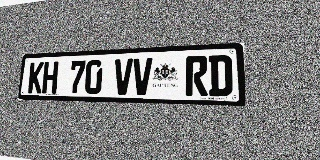0: (84, 60, 103, 94)
7: (68, 60, 86, 94)
D: (209, 55, 232, 96)
H: (42, 61, 59, 94)
K: (28, 62, 44, 94)
R: (186, 56, 208, 96)
V: (113, 58, 133, 95), (132, 58, 152, 95)
